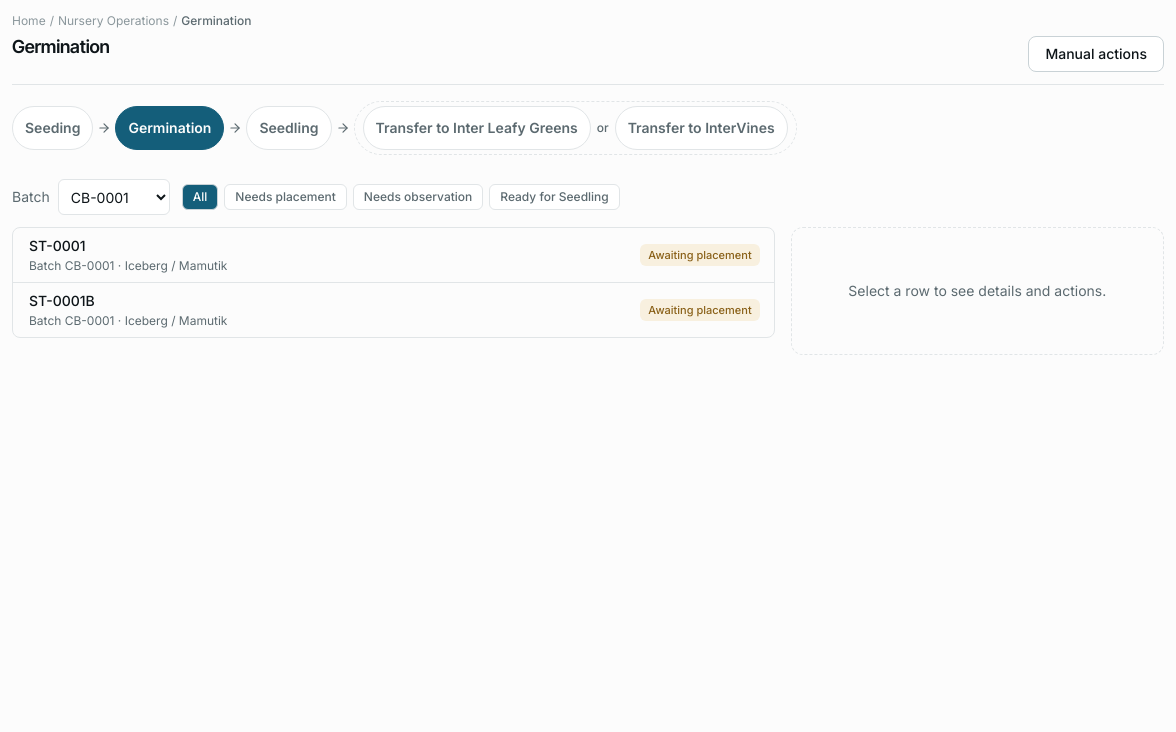
Scenario: GerminationPage worklist › Move All (header bulk placement) still reports truthful partial success from the page
The width and height of the screenshot is (1176, 732).
Expected: the text "ST-0001" is shown, [29,236,86,256]
Click the button "Manual actions". click: coordinates (1096, 54)
box: [1028,36,1164,72]
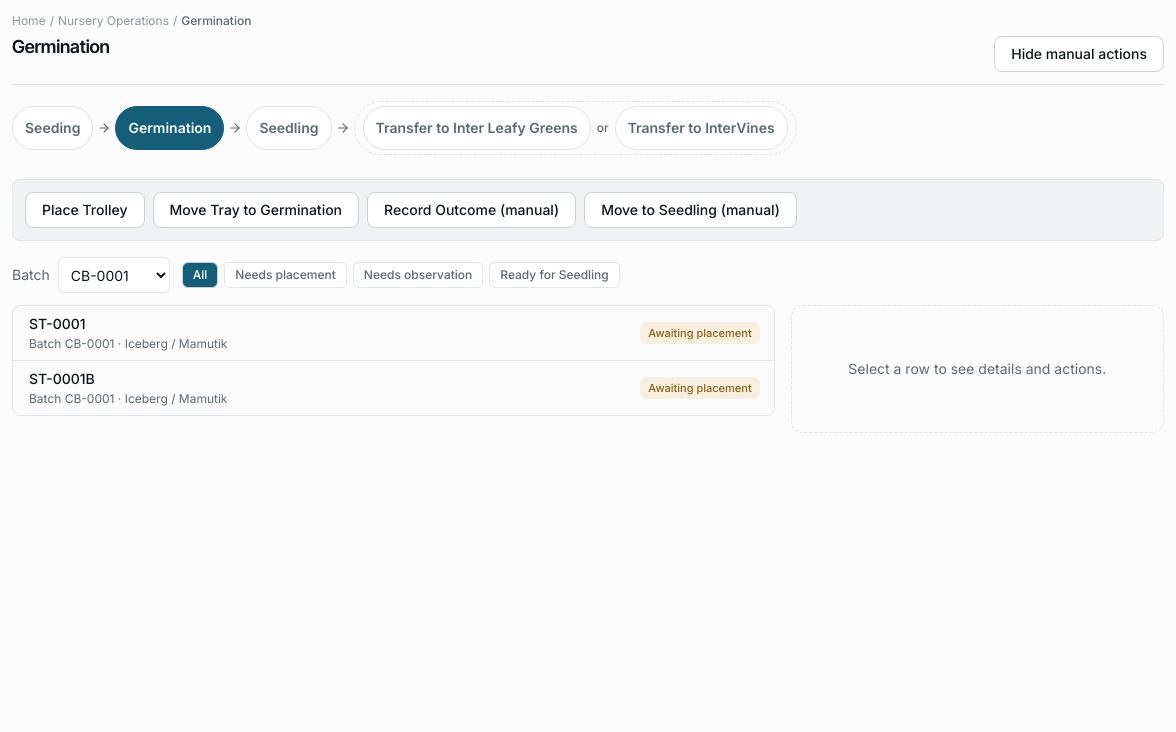
Click the button "Move Tray to Germination". click: coordinates (256, 210)
box: [152,192,359,228]
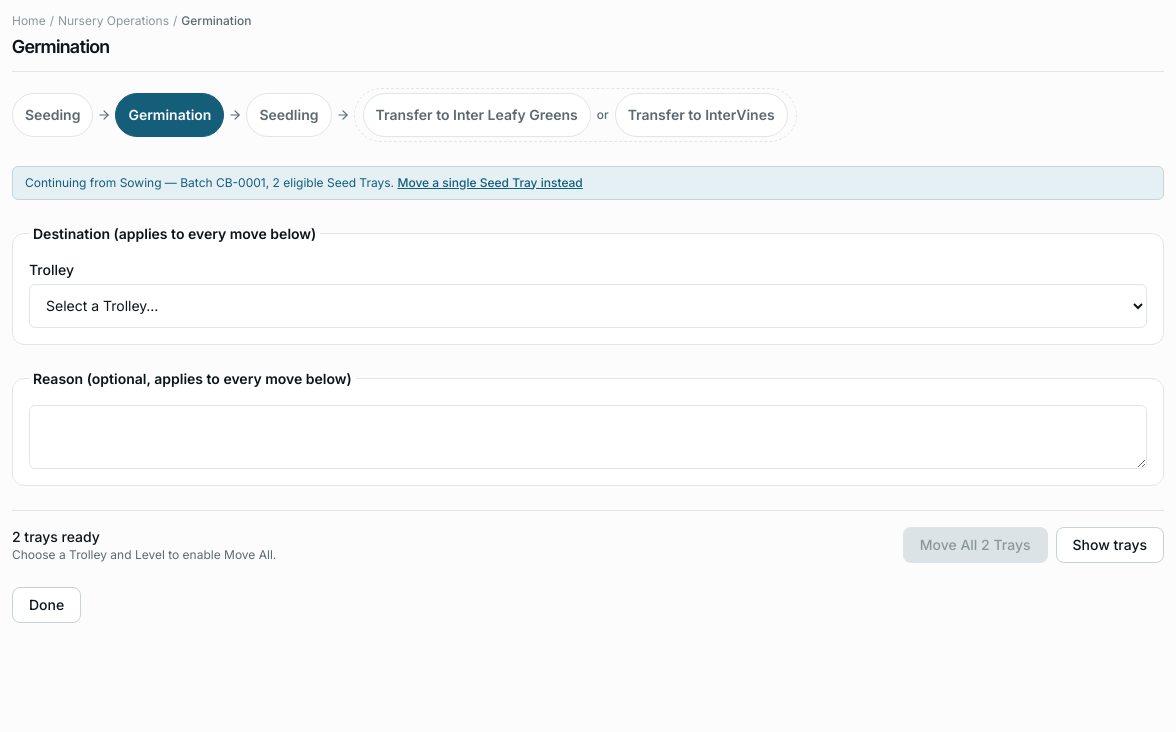
Now the text "2 trays ready" is shown, box [12,528,100,544]
Select "GT-01 — GC-01 (5 of 6 free)" in the dropdown labelled "Trolley". click: coordinates (588, 306)
box: [29,284,1147,328]
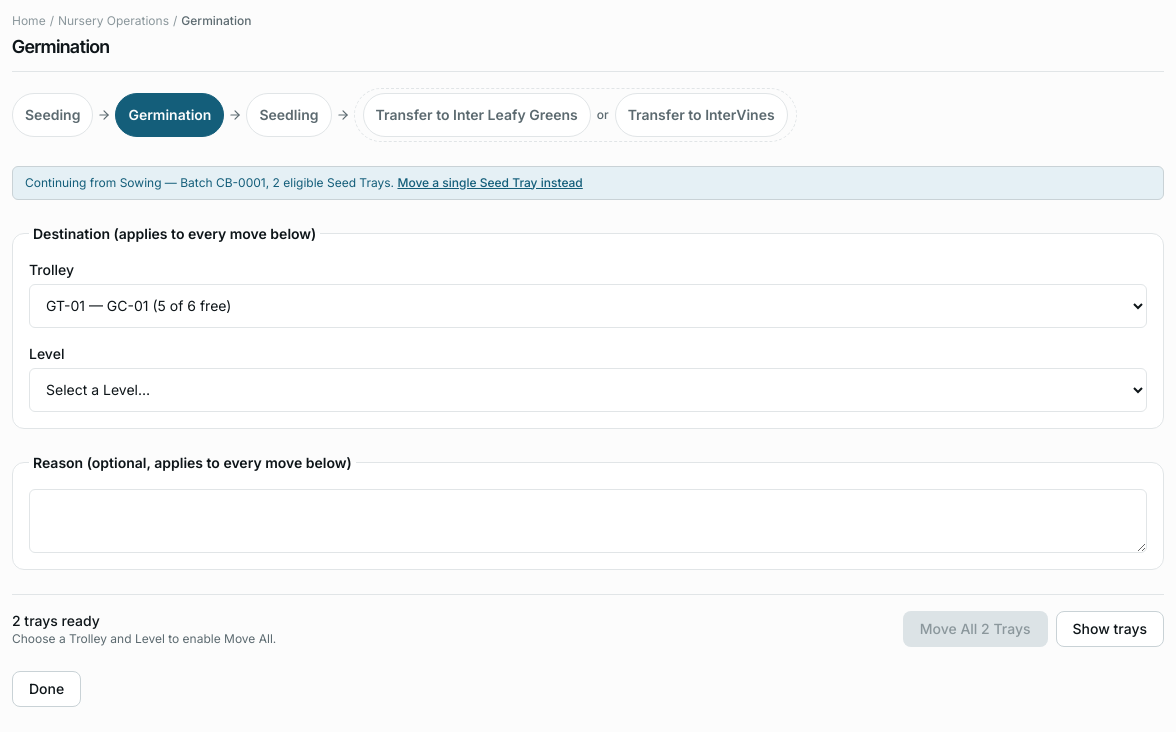
Select "GT-01-L01 (3 of 4 free)" in the dropdown labelled "Level". click: coordinates (588, 390)
box: [29,368,1147,412]
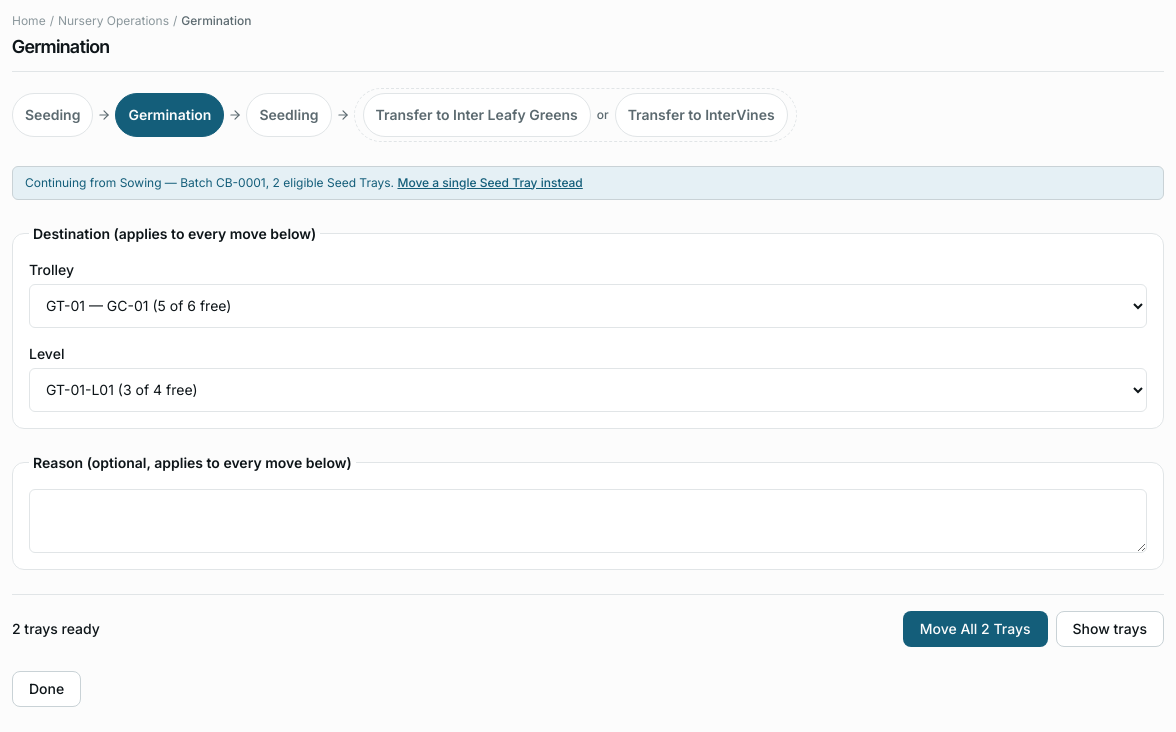
Click the button "Move All 2 Trays". click: coordinates (975, 628)
box: [903,610,1048,646]
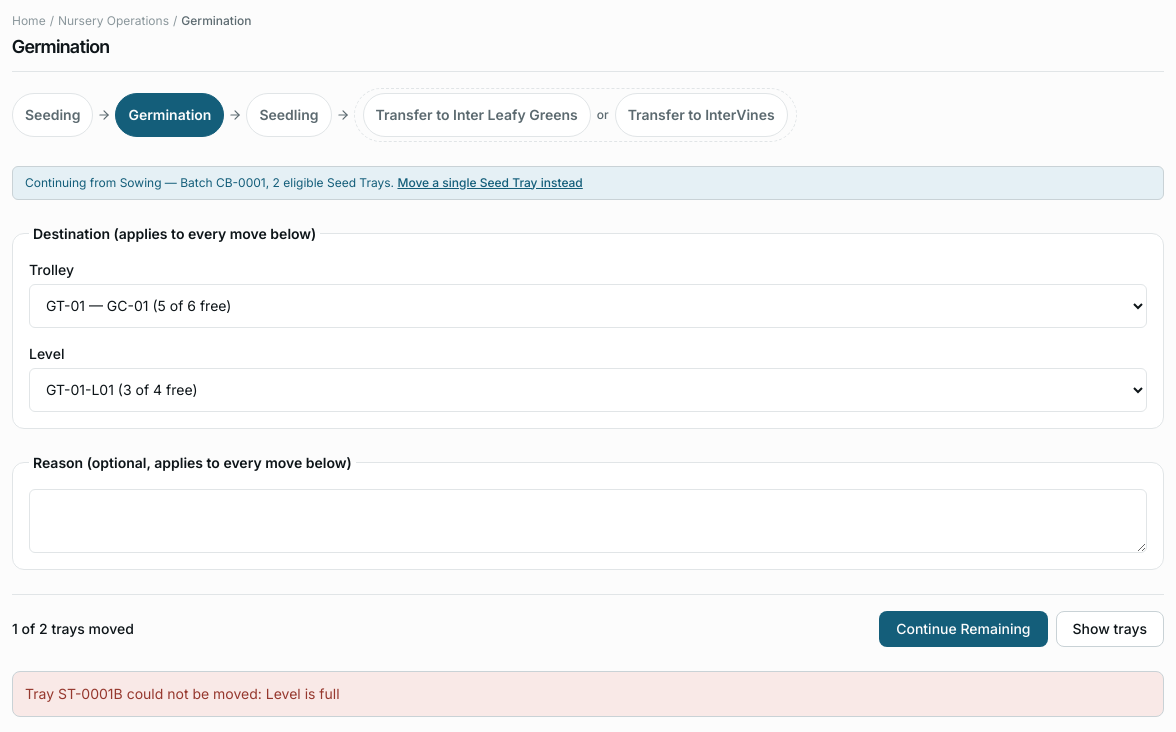
Now the text "1 of 2 trays moved" is shown, box [12,618,134,638]
Now the text "Tray ST-0001B could not be moved: Level is full" is shown, box [25,684,340,702]
Now the button "Continue Remaining" is shown, box [879,610,1048,646]
